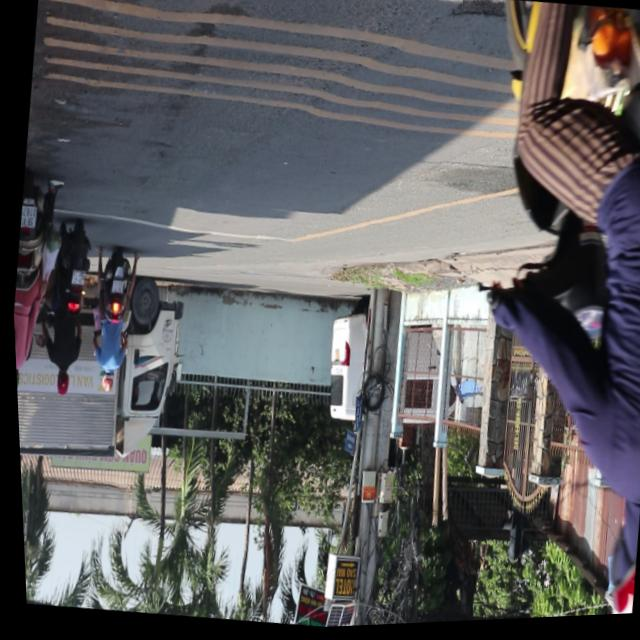helmet: (584, 497, 639, 620), (13, 366, 19, 401)
licenseplate: (429, 0, 640, 625), (6, 169, 69, 406)
nohelmet: (17, 205, 34, 228)
